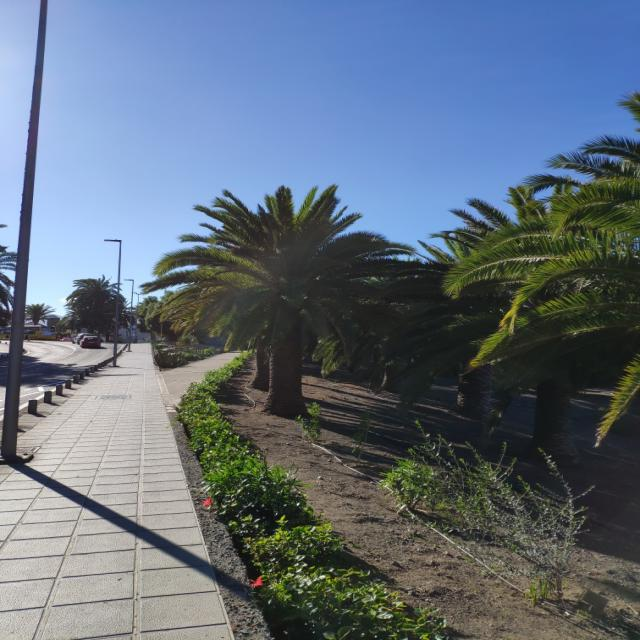Palm-Trees: (168, 182, 408, 414)
